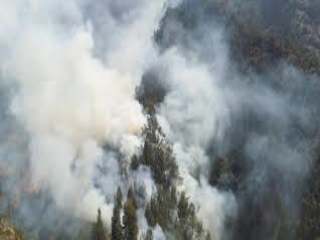smoke: (33, 168, 131, 231), (98, 93, 153, 158)
